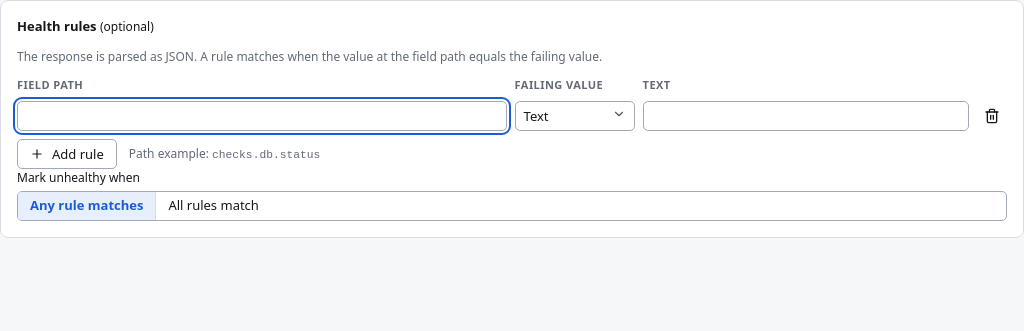
HealthRulesGroup › Remove moves focus to the next rule, the previous one when the last went, and Add rule when none is left
This screenshot has width=1024, height=331.
Earlier steps of the test are not shown.
Click the button "Add rule". click: click(67, 154)
box: [17,139,117,169]
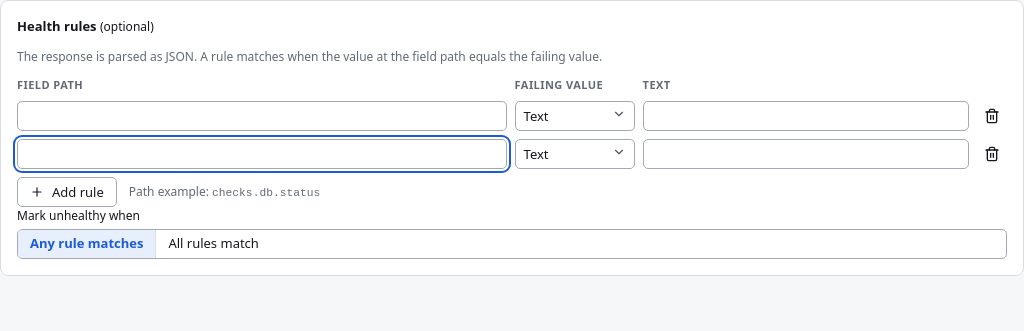
Click the button "Add rule". click: click(67, 192)
box: [17,177,117,207]
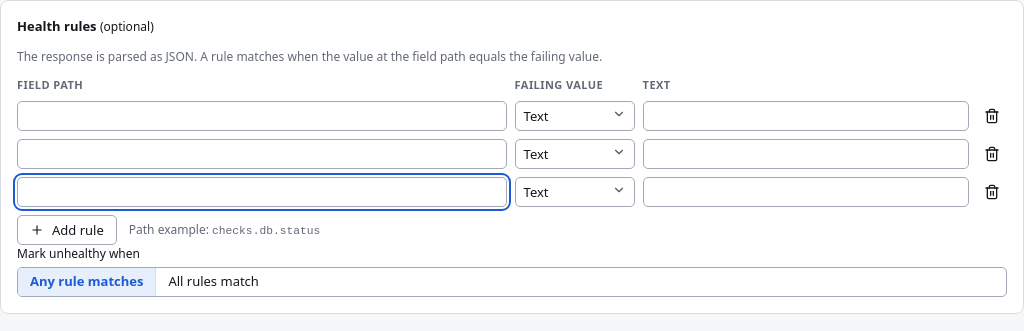
Type "second" into the field named "Rule 2 field path". click: (262, 154)
box: [17,139,507,169]
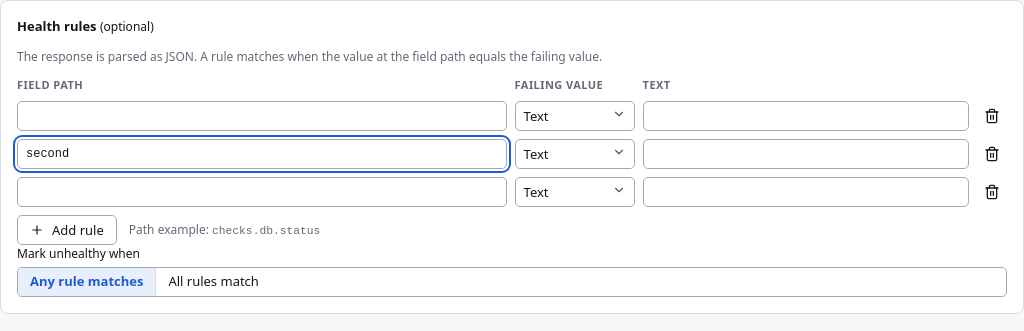
Click the button named "Remove rule 1". click: click(992, 116)
box: [977,101,1007,131]
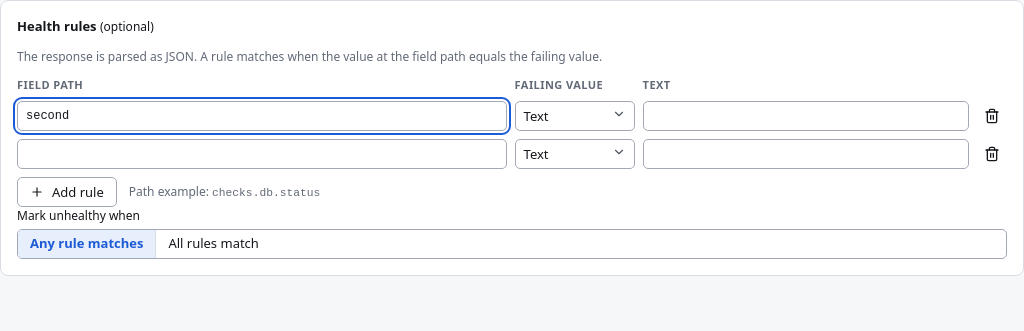
Click the button named "Remove rule 2". click: click(992, 154)
box: [977,139,1007,169]
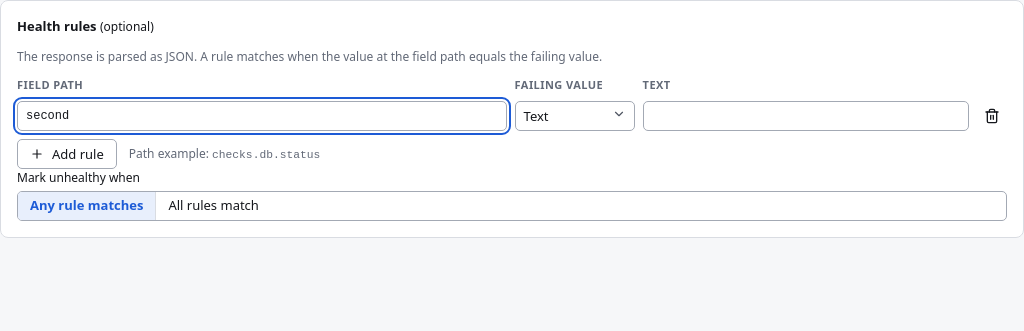
Click the button named "Remove rule 1". click: click(992, 116)
box: [977,101,1007,131]
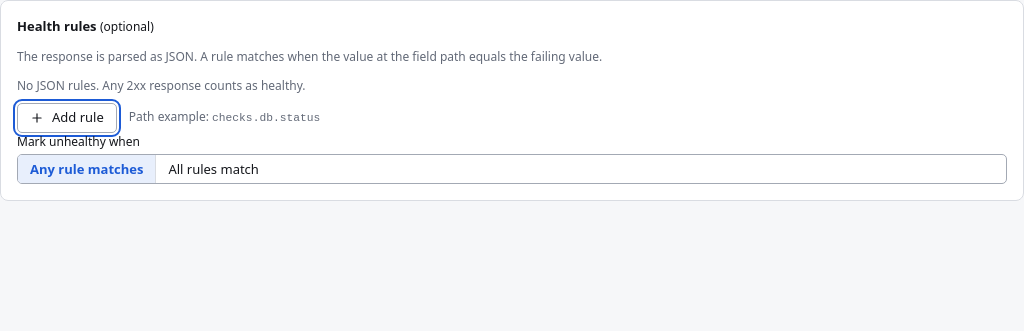
Result: the text "No JSON rules. Any 2xx response counts as healthy." is shown at [17,77,306,94]
